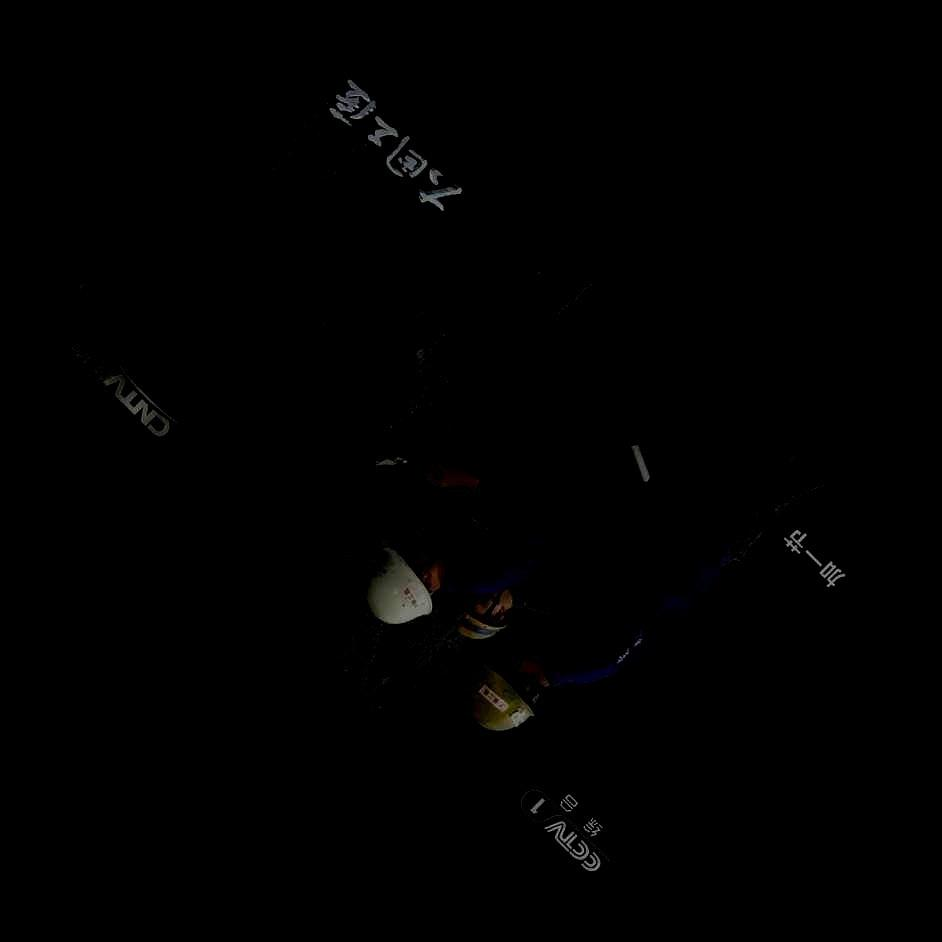helmet: (473, 654, 552, 732), (369, 543, 442, 625), (455, 581, 515, 639)
